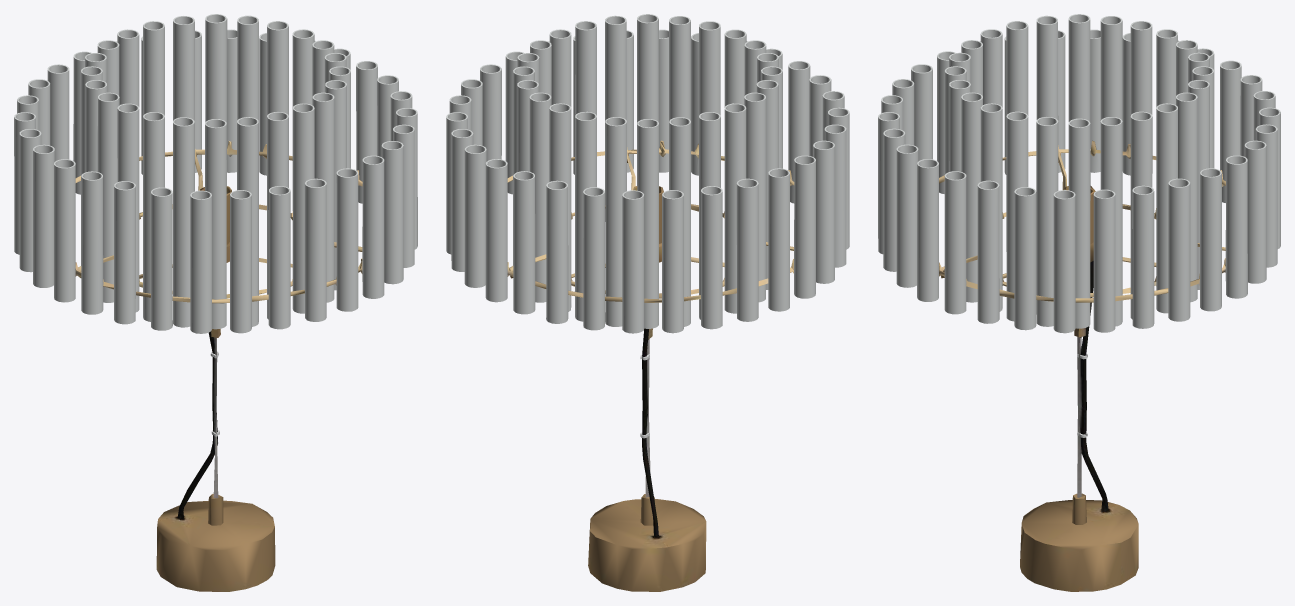
The model's file is 01 - STOCKHOLM 2025 Pendant lamp - glassbrass-plated 54 cm.glb.
3 views of the same model, side by side, from view 1: azimuth 30°, elevation 25°; view 2: azimuth 150°, elevation 25°; view 3: azimuth 270°, elevation 25° (orthographic).
Visible parts, largest first — view 1: ASY_ART_90585950_S01_NV01; view 2: ASY_ART_90585950_S01_NV01; view 3: ASY_ART_90585950_S01_NV01.
Boxes of the visible parts, x1,y1,x2,y2 form: ASY_ART_90585950_S01_NV01: (14,14,417,591); ASY_ART_90585950_S01_NV01: (446,14,849,591); ASY_ART_90585950_S01_NV01: (878,14,1280,591).
Size of the model in its own units: 0.544 by 0.7425 by 0.5456.
Materials: 2 (2 with a texture image).
